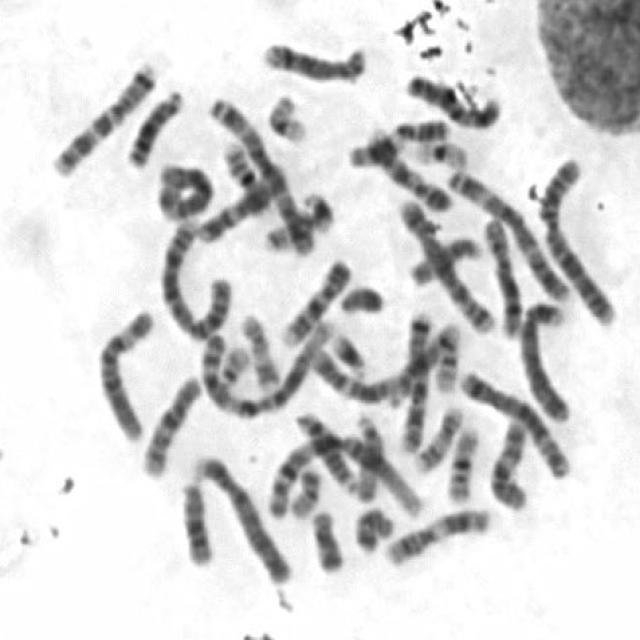A1: (256, 424, 428, 522), (189, 312, 338, 420)
A2: (533, 150, 621, 328), (153, 209, 236, 344)
A3: (200, 87, 317, 258), (442, 162, 576, 304)
B4: (186, 446, 294, 585), (513, 290, 574, 424)
B5: (393, 190, 499, 334), (454, 363, 574, 481)
C10: (134, 369, 204, 480), (482, 412, 532, 512)
C11: (377, 500, 495, 568), (341, 110, 451, 169)
C12: (189, 168, 279, 245), (308, 348, 387, 403)
C6: (90, 299, 160, 443), (152, 156, 218, 220)
C7: (44, 53, 160, 178), (393, 302, 435, 455)
C8: (476, 210, 525, 341), (256, 32, 372, 84)
C9: (359, 120, 455, 213), (274, 252, 354, 348)
D13: (121, 81, 186, 169), (174, 474, 216, 567)
D14: (382, 327, 460, 409), (290, 404, 358, 492)
D15: (402, 230, 484, 289), (349, 407, 386, 504)
E16: (216, 133, 272, 215), (440, 419, 482, 505)
E17: (408, 398, 467, 476), (235, 306, 284, 392)
E18: (306, 502, 347, 575), (349, 498, 397, 554)
F19: (262, 88, 310, 146), (409, 132, 471, 170)
F20: (260, 206, 318, 253), (284, 459, 325, 520)
G21: (325, 324, 370, 380), (297, 183, 338, 236)
G22: (428, 320, 464, 394), (213, 339, 254, 388)
X: (400, 67, 504, 130)
Y: (334, 279, 388, 317)
